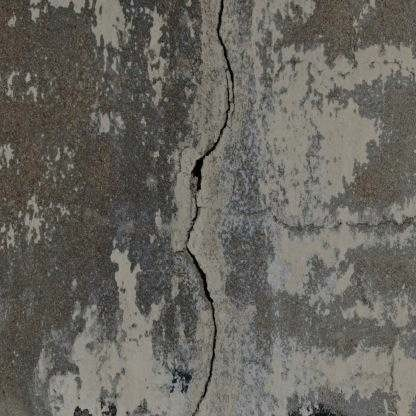crack: (162, 0, 241, 414)
